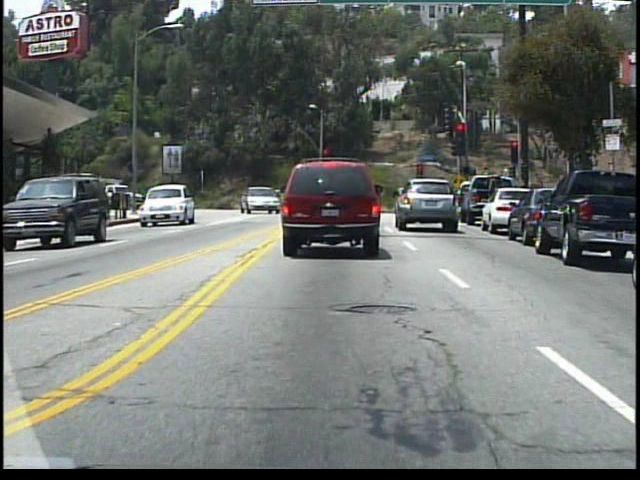person: (264, 187, 280, 212)
